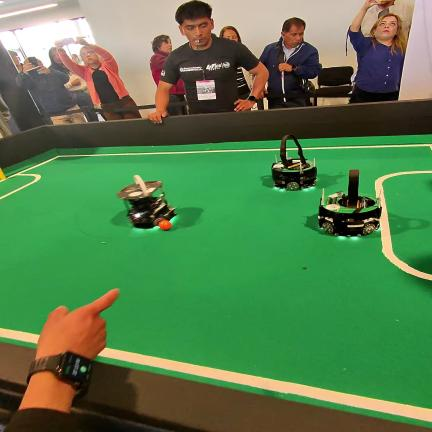cancha: (0, 135, 432, 432)
limites: (97, 348, 432, 423), (0, 149, 275, 200), (375, 170, 432, 280), (306, 143, 432, 150), (0, 329, 38, 343)
pelota: (159, 220, 171, 230)
robot: (318, 169, 384, 237), (117, 175, 177, 229), (271, 135, 317, 190)
